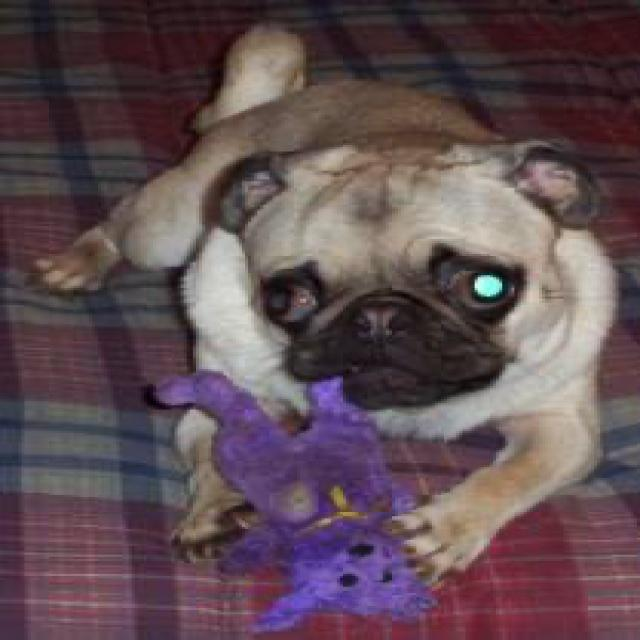dog: (214, 134, 606, 406)
